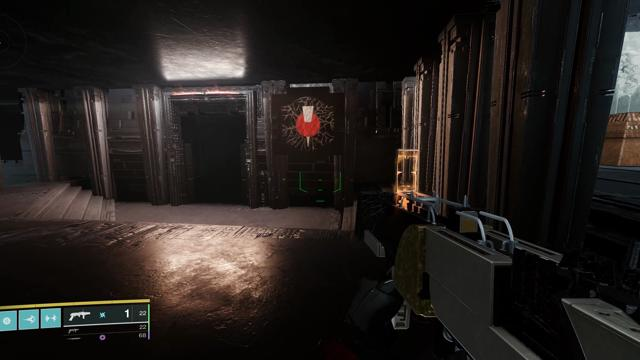kill: (280, 96, 334, 153)
